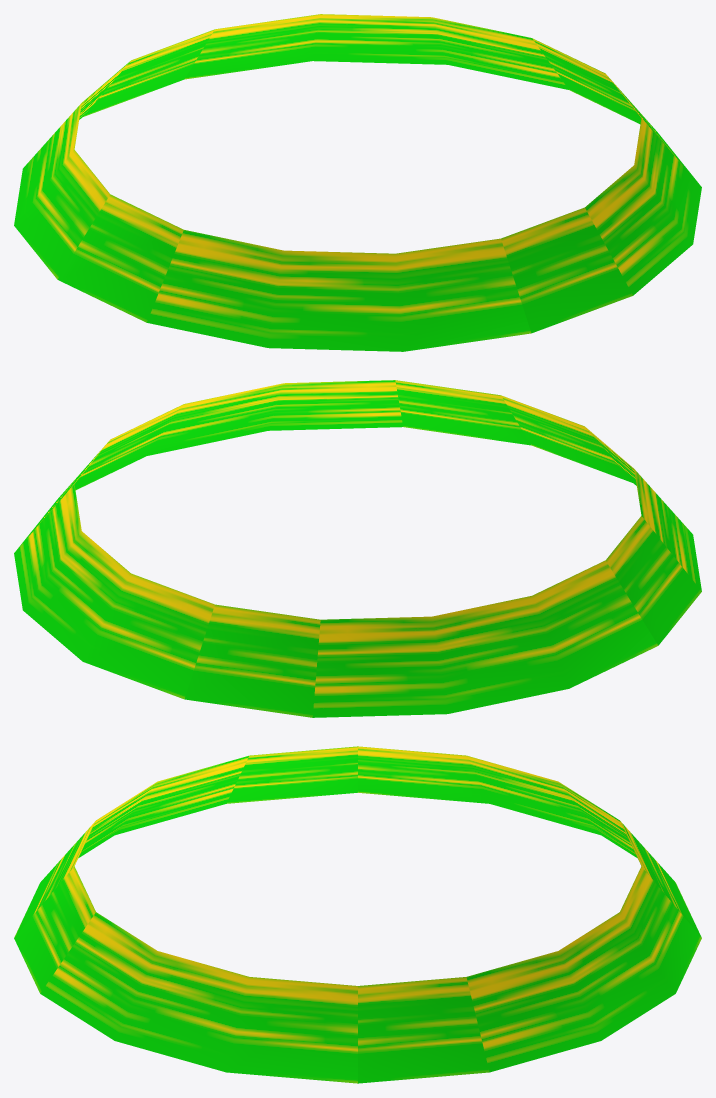
The model's file is p_emissionmesh_drop01.fbx.
The picture shows the model from 3 angles, top to bottom: view 1: azimuth 30°, elevation 25°; view 2: azimuth 150°, elevation 25°; view 3: azimuth 270°, elevation 25°; orthographic projection.
Visible parts, largest first — view 1: pCylinder12; view 2: pCylinder12; view 3: pCylinder12.
Part boxes in pixels (x1=…): pCylinder12: x1=14, y1=14, x2=701, y2=351; pCylinder12: x1=14, y1=380, x2=701, y2=717; pCylinder12: x1=14, y1=746, x2=701, y2=1083.
Bounding box in the file's own units: 1.5 × 0.1735 × 1.5.
